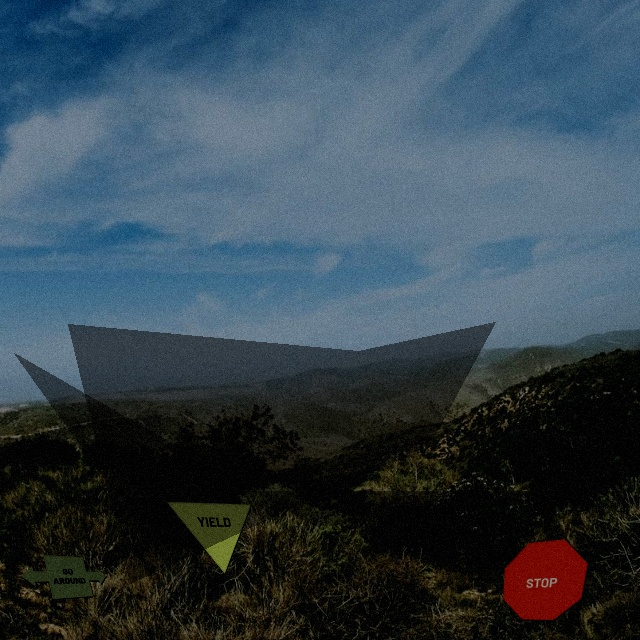GO_AROUND: (20, 554, 107, 600)
STOP: (502, 538, 589, 621)
YIELD: (165, 501, 252, 575)
